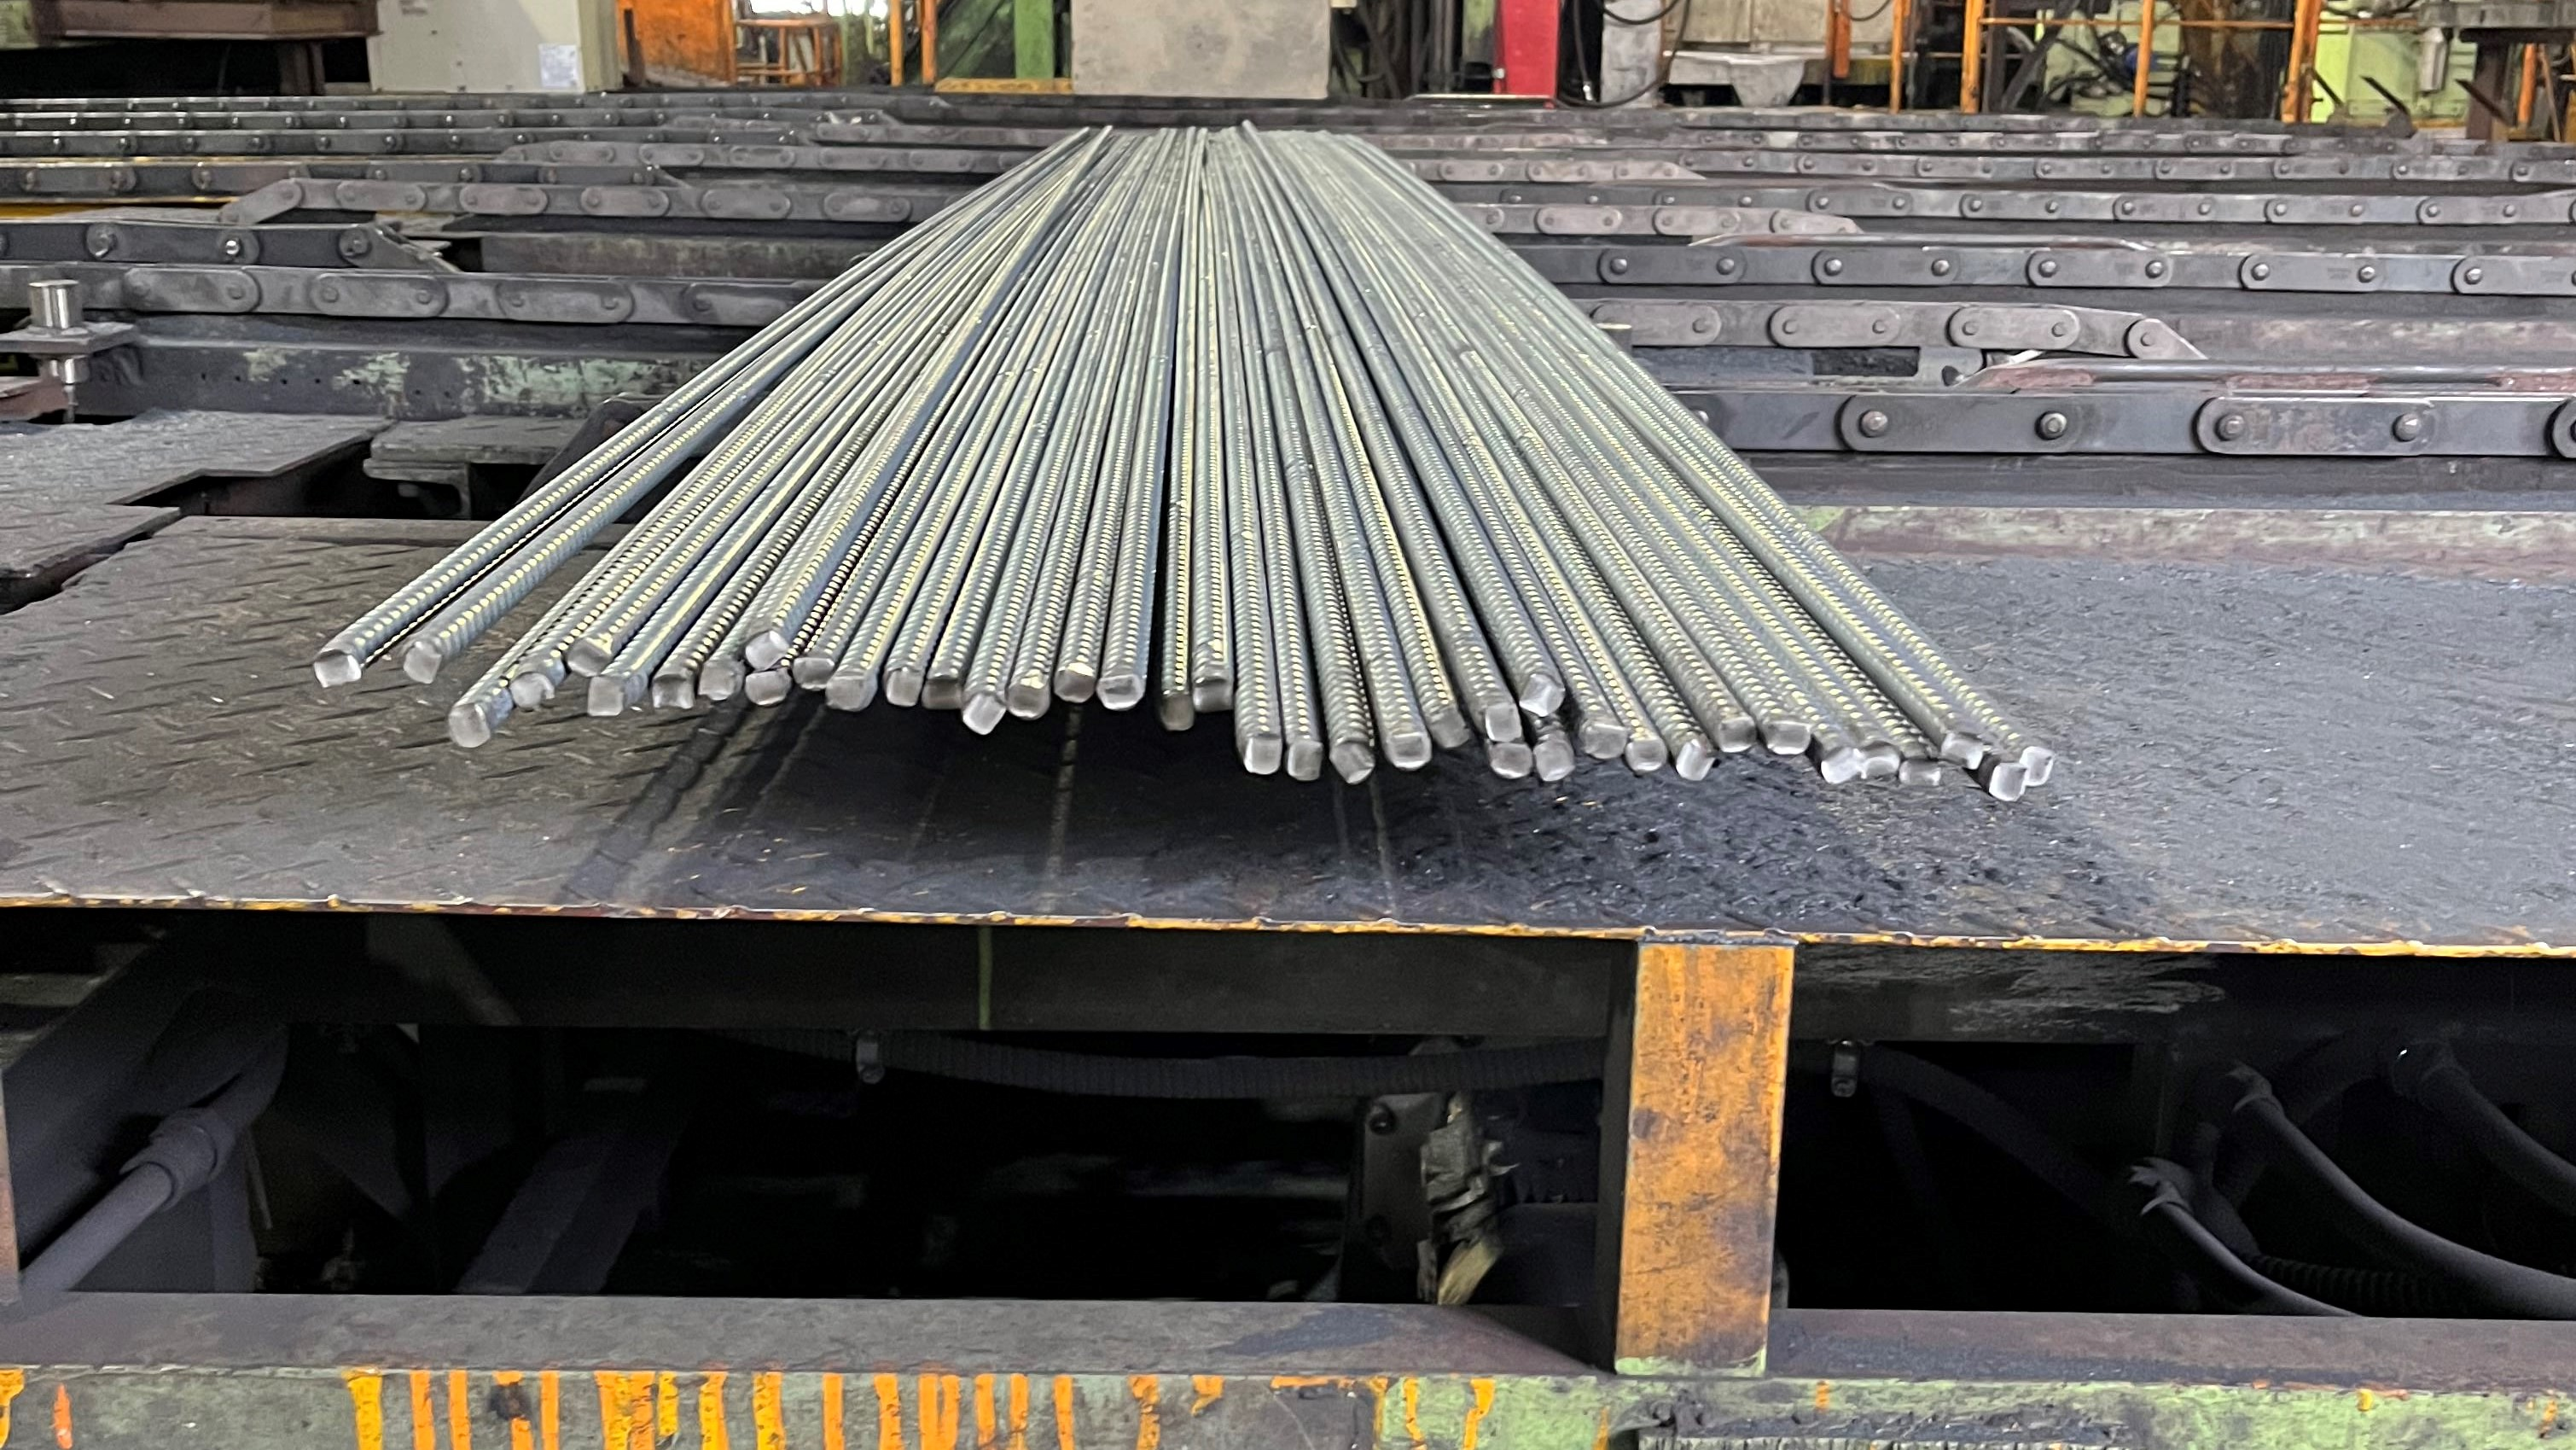rod: (396, 637, 444, 687), (444, 701, 492, 751), (959, 689, 1008, 737), (1327, 738, 1375, 786), (1516, 671, 1568, 715), (310, 648, 364, 689), (695, 659, 745, 703), (1426, 708, 1472, 754), (1238, 731, 1286, 775), (1532, 737, 1576, 784), (821, 675, 878, 712), (1580, 721, 1631, 761), (584, 675, 628, 721), (1939, 729, 1987, 772), (506, 669, 556, 710), (1095, 673, 1146, 712), (564, 636, 609, 680), (1005, 680, 1051, 722), (1385, 731, 1433, 772), (2017, 744, 2058, 791), (1484, 742, 1534, 781), (1674, 738, 1716, 783), (1817, 744, 1863, 784), (1893, 754, 1943, 791), (883, 664, 924, 708), (1283, 740, 1323, 784), (1624, 735, 1668, 775), (649, 673, 695, 712), (793, 653, 839, 692), (743, 632, 791, 669), (743, 671, 793, 706), (920, 673, 962, 713), (1483, 703, 1525, 744), (1859, 738, 1900, 781), (1985, 761, 2028, 802), (1053, 666, 1097, 705), (1155, 692, 1196, 733), (1716, 717, 1759, 756), (1767, 721, 1812, 758), (1192, 676, 1235, 713)
